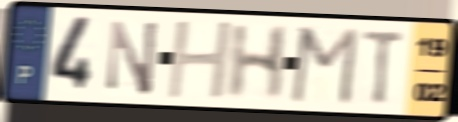4: (47, 12, 100, 98)
H: (164, 18, 236, 102), (224, 23, 293, 102)
M: (287, 24, 362, 108)
N: (104, 17, 161, 99)
T: (361, 27, 408, 108)
